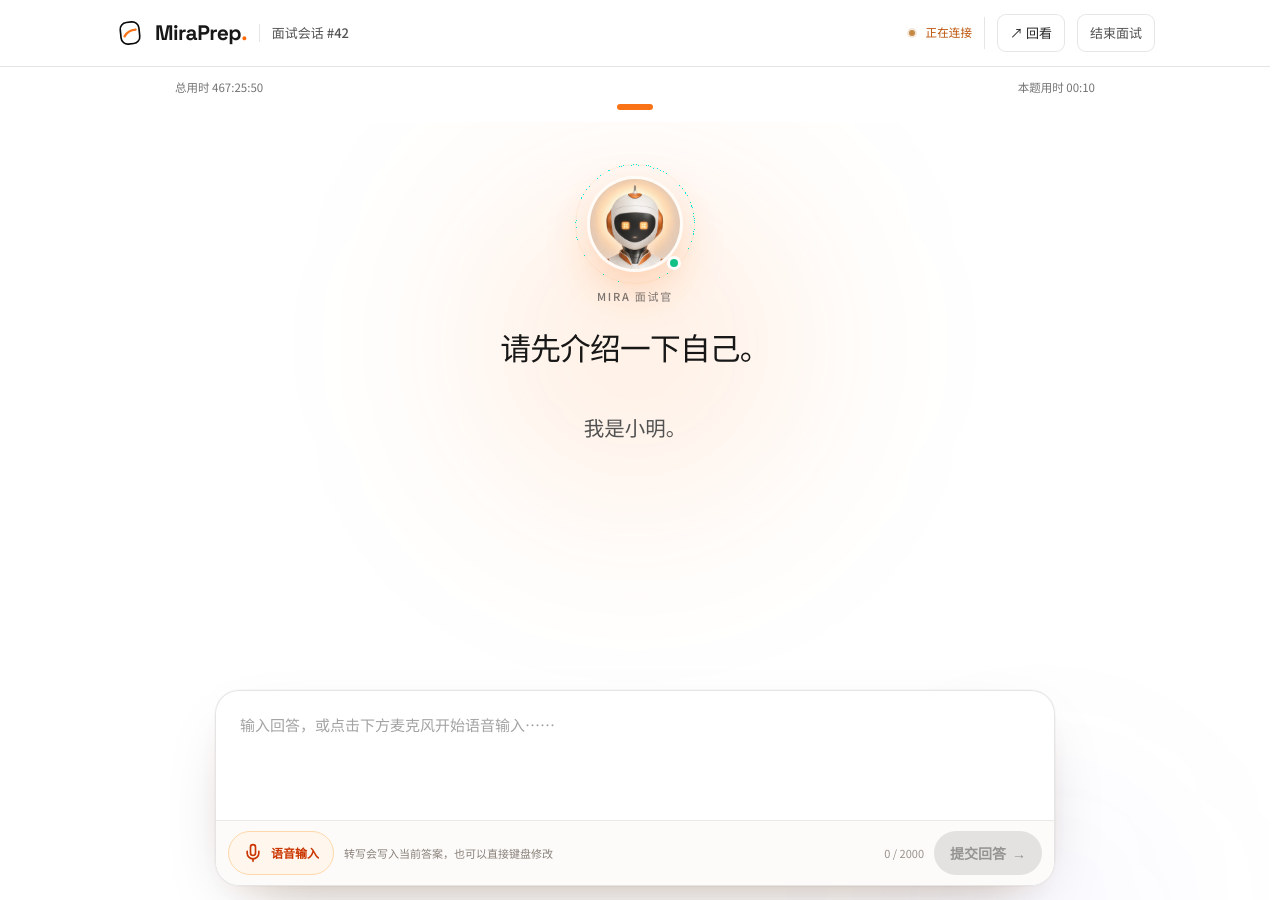
it: InterviewClient runtime › moves the answer into the stage immediately without a sending label
This screenshot has width=1280, height=900.
Check: the text "请先介绍一下自己。" is shown, box [500,324,770,370]
Step 1. Type "这段回答应该立刻进入舞台" into the text box named "你的回答" → (635, 753), box [216,691,1054,815]
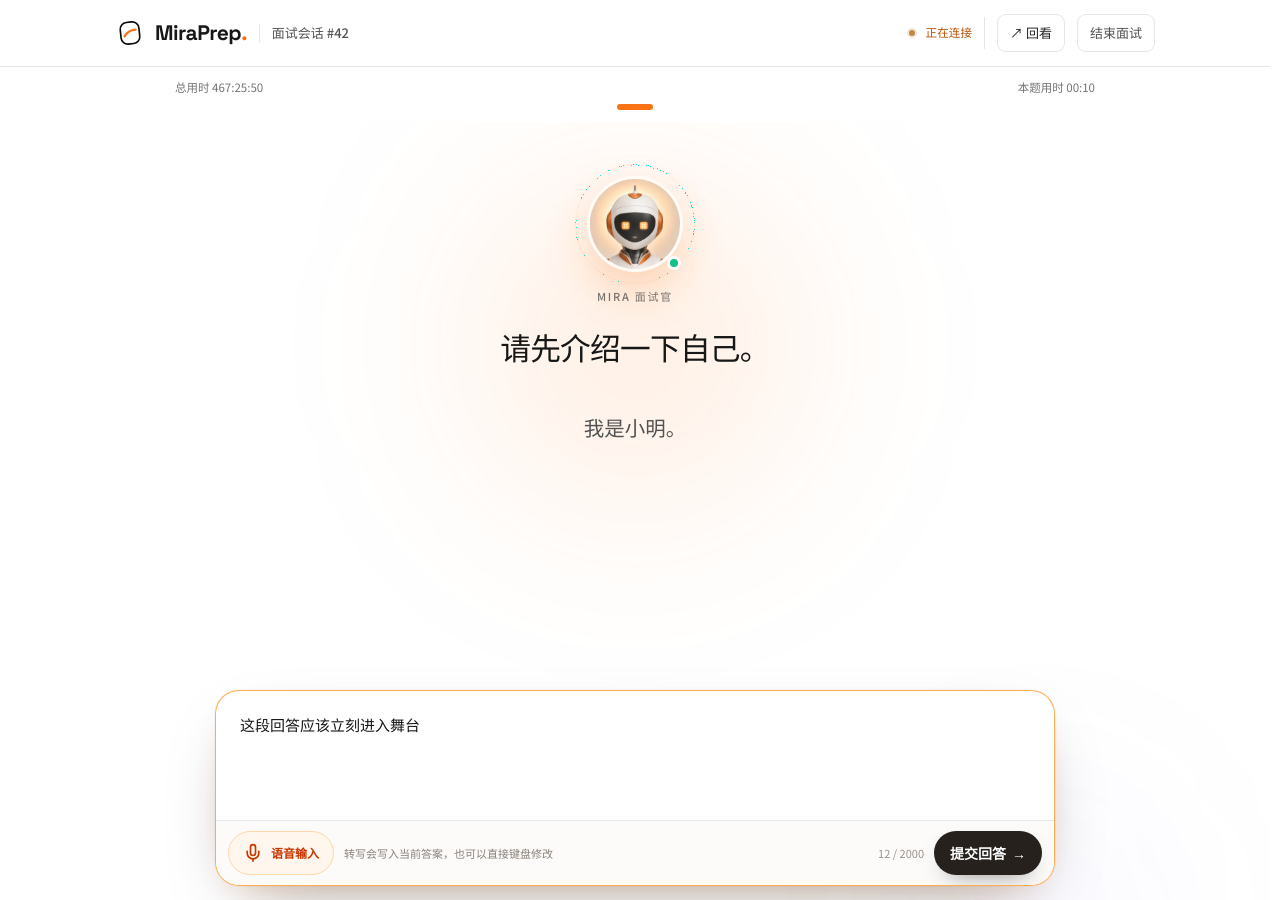
Step 2. Click the button "提交回答 →" → (988, 853), box [934,831,1042,875]
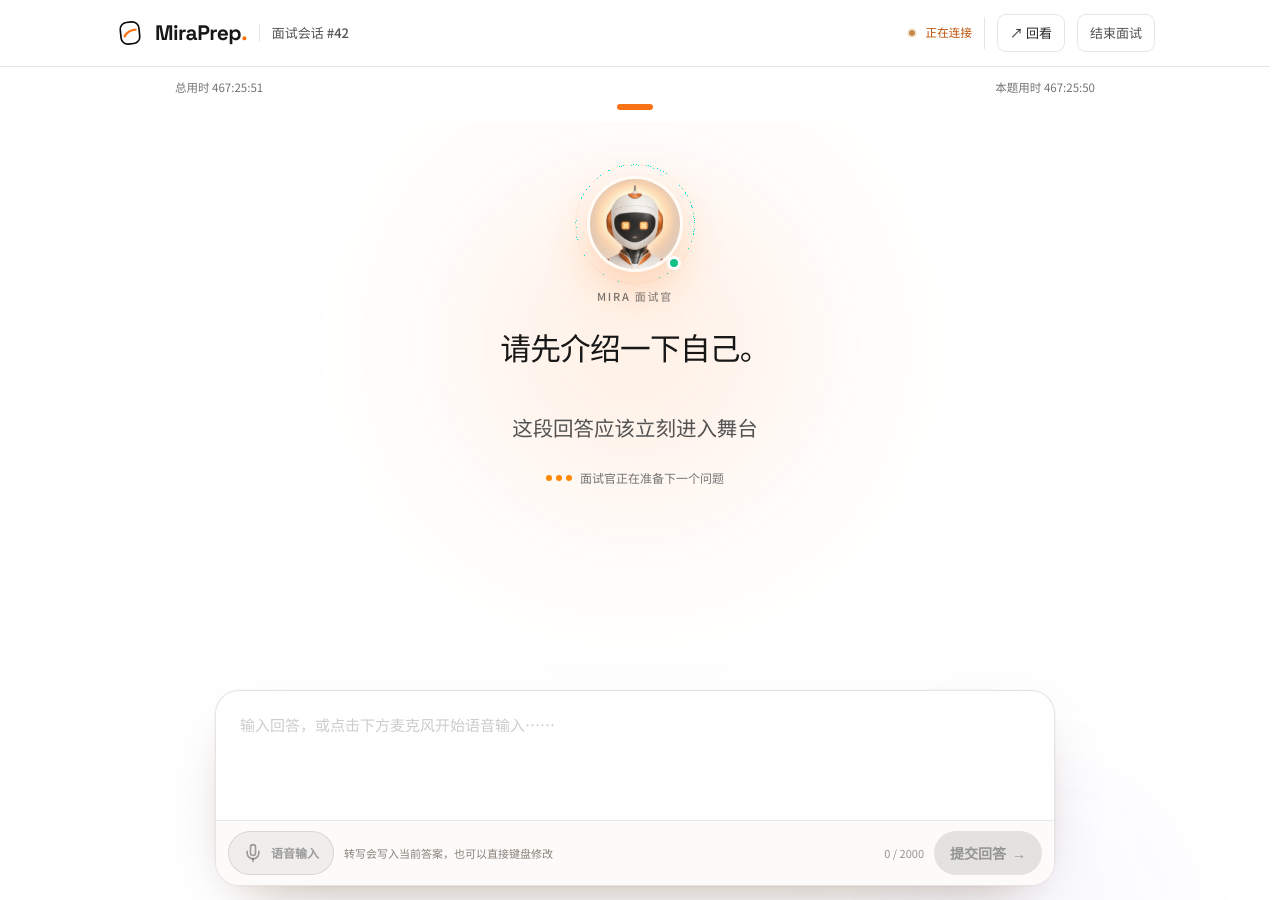
Check: the element with test id "candidate-stage-answer" reads "这段回答应该立刻进入舞台", box [512,412,758,442]
Check: the text box named "你的回答" is empty, box [216,691,1054,815]
Check: the button "提交回答 →" is disabled, box [934,831,1042,875]
